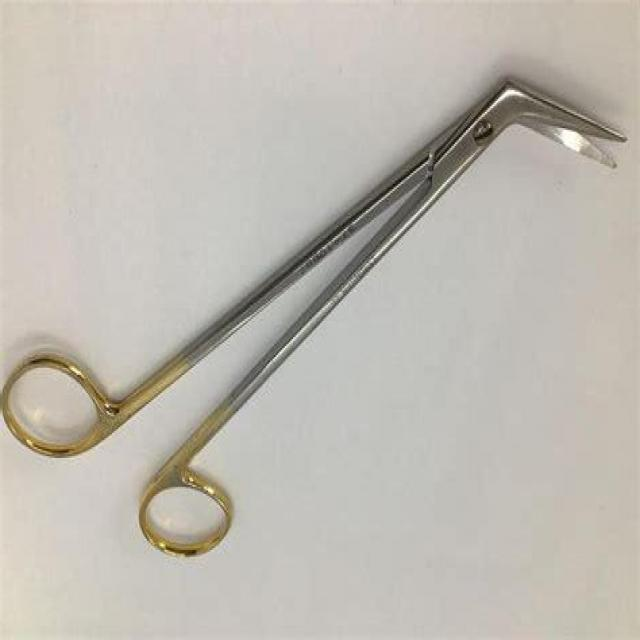Potts: (0, 70, 629, 564)
